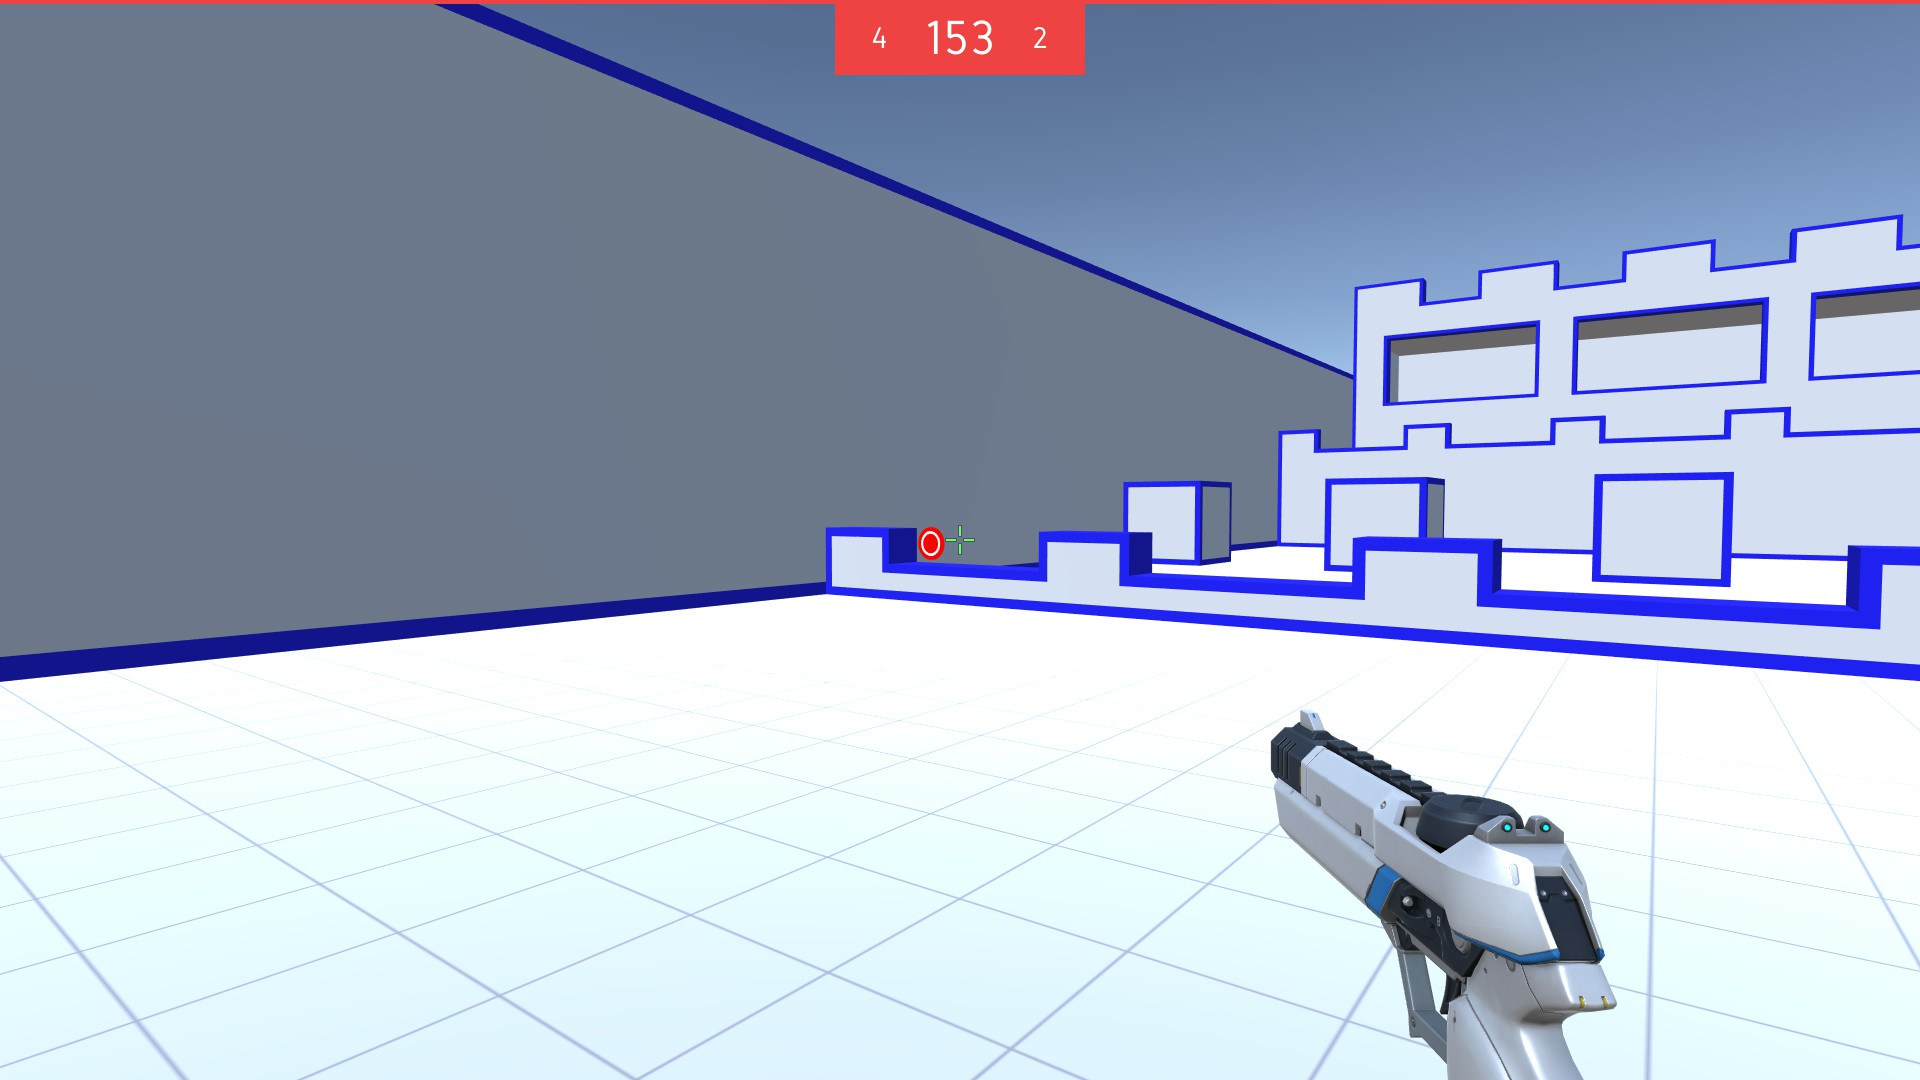target: (916, 527, 945, 560)
